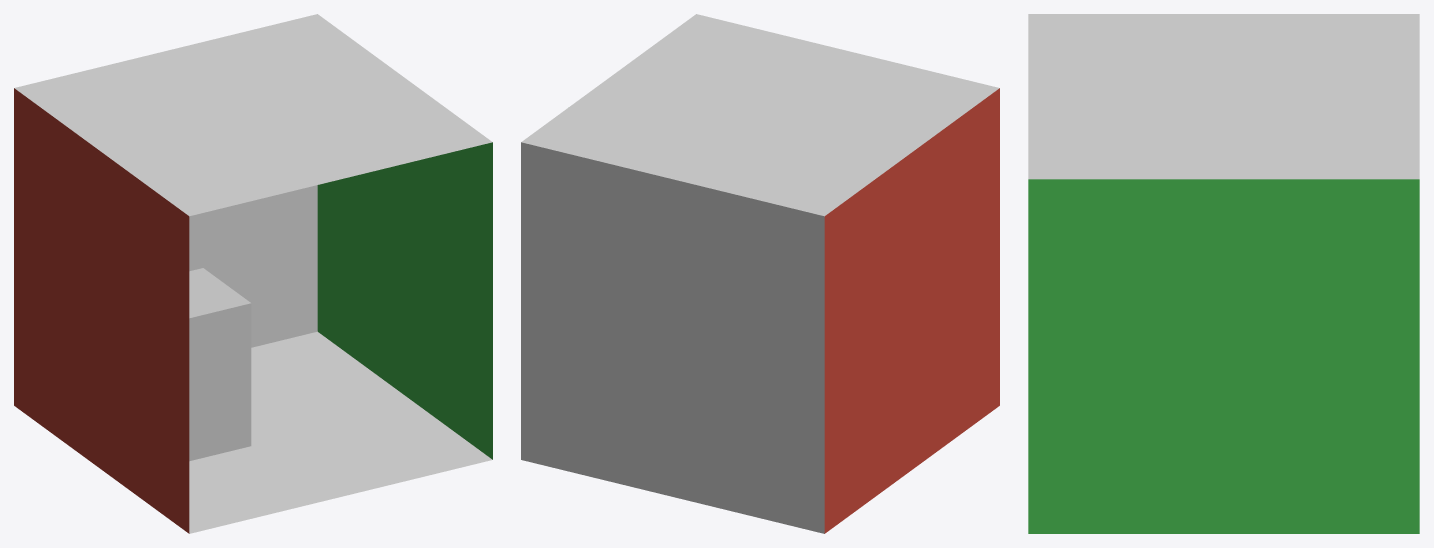
Rendered from opaque-room.gltf.
The picture shows the model from 3 angles, left to right: view 1: azimuth 30°, elevation 25°; view 2: azimuth 150°, elevation 25°; view 3: azimuth 270°, elevation 25°; orthographic projection. The views are drawn at different scales.
Visible parts, largest first — view 1: left, ceiling, right, floor, back, occluder-front, occluder-top; view 2: back, left, ceiling; view 3: right, ceiling.
Part boxes in pixels (left/top/right/bottom): left: left=14, top=88, right=189, bottom=533; ceiling: left=14, top=14, right=492, bottom=216; right: left=317, top=142, right=492, bottom=459; floor: left=189, top=331, right=492, bottom=533; back: left=189, top=185, right=317, bottom=347; occluder-front: left=189, top=303, right=251, bottom=461; occluder-top: left=189, top=268, right=250, bottom=318; back: left=521, top=142, right=824, bottom=533; left: left=824, top=88, right=999, bottom=533; ceiling: left=521, top=14, right=999, bottom=216; right: left=1028, top=179, right=1419, bottom=533; ceiling: left=1028, top=14, right=1419, bottom=179.
Bounding box in the file's own units: 2 × 2 × 2.
